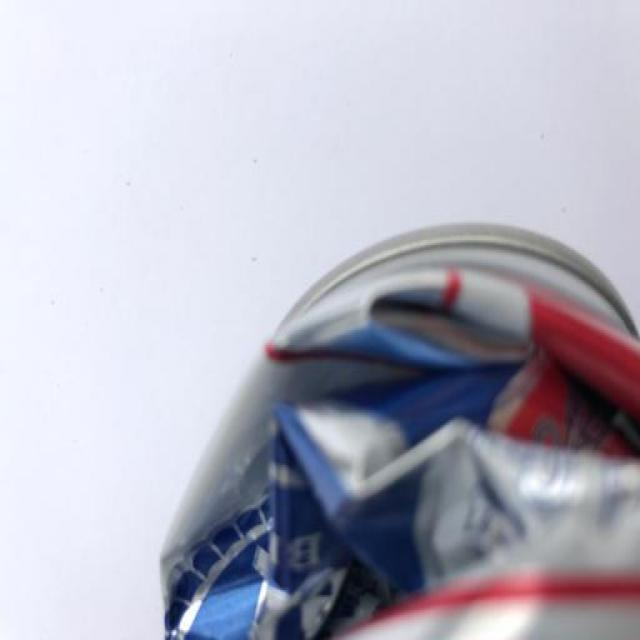metel: (115, 199, 640, 640)
